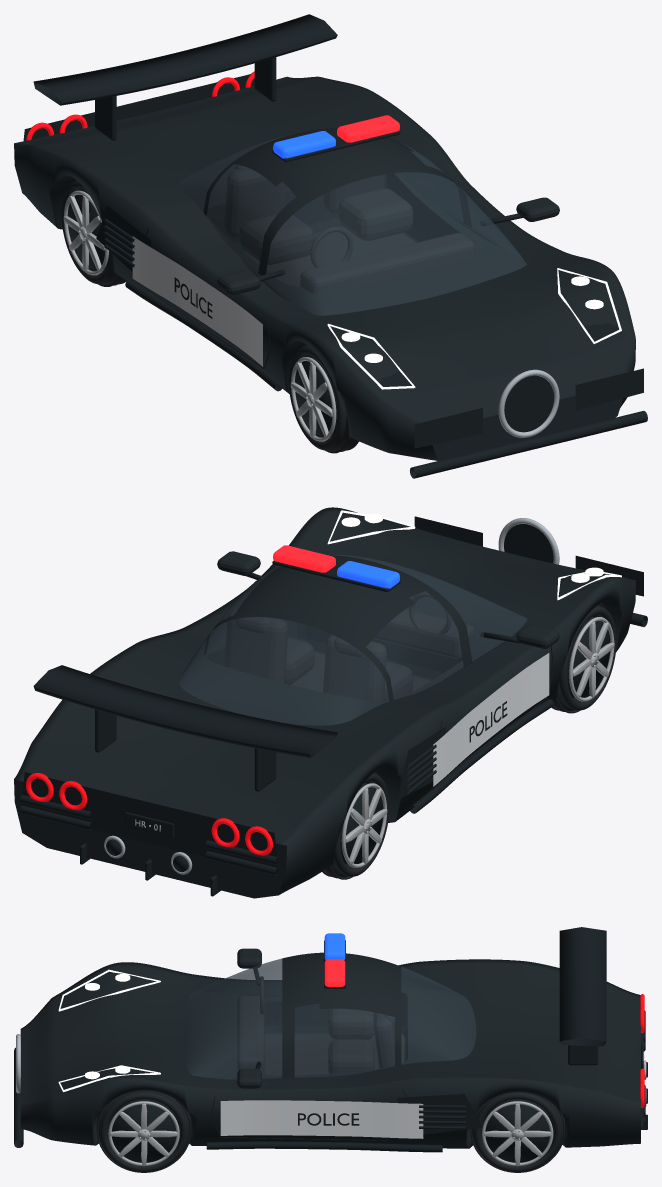
The model's file is interceptor.glb.
3 views of the same model, one above another, from view 1: azimuth 30°, elevation 25°; view 2: azimuth 150°, elevation 25°; view 3: azimuth 270°, elevation 25° (orthographic). The views are drawn at different scales.
Visible parts, largest first — view 1: Body surfaces, WheelFrontR surfaces, WheelRearR surfaces; view 2: Body surfaces, WheelFrontR surfaces, WheelRearR surfaces; view 3: Body surfaces, WheelFrontL surfaces, WheelRearL surfaces.
Part boxes in pixels (x1,y1,x2,y2): Body surfaces: [14, 14, 647, 478]; WheelFrontR surfaces: [288, 343, 358, 453]; WheelRearR surfaces: [61, 179, 126, 286]; Body surfaces: [14, 507, 647, 898]; WheelFrontR surfaces: [551, 603, 616, 713]; WheelRearR surfaces: [322, 772, 389, 879]; Body surfaces: [14, 927, 647, 1152]; WheelFrontL surfaces: [96, 1090, 191, 1172]; WheelRearL surfaces: [470, 1092, 565, 1172].
Size of the model in its own units: 2.29 by 1.32 by 4.6.
